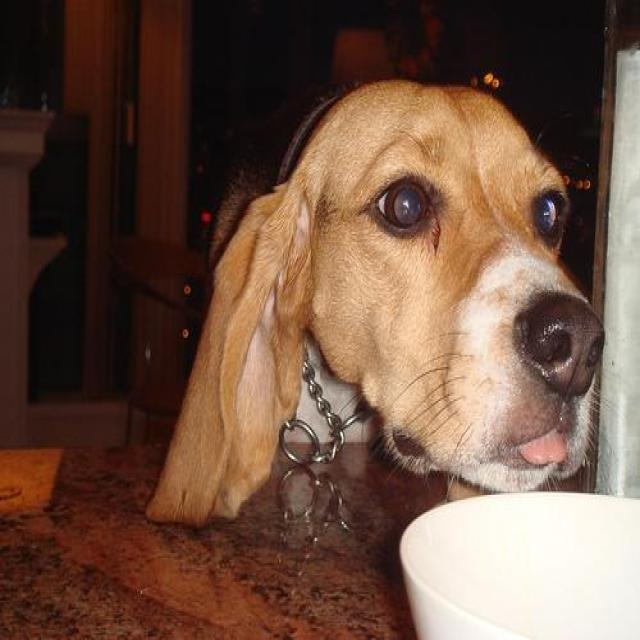beagle: (134, 77, 607, 531)
